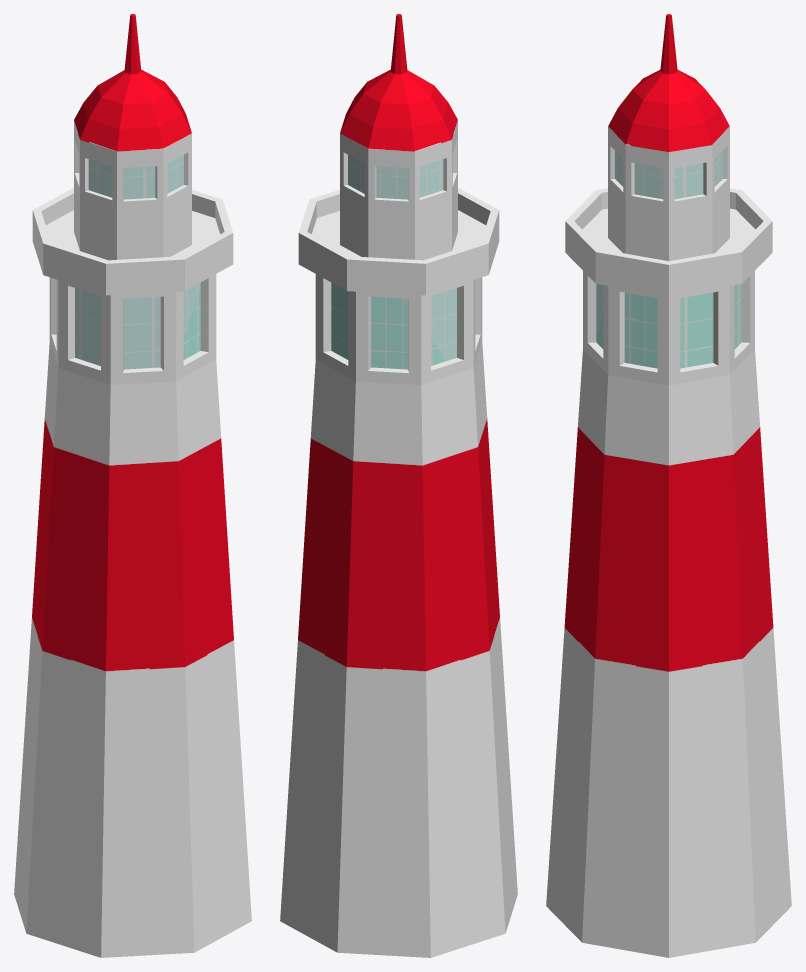
The model's file is Lighthouse_noGround.fbx.
3 views of the same model, side by side, from view 1: azimuth 30°, elevation 25°; view 2: azimuth 150°, elevation 25°; view 3: azimuth 270°, elevation 25° (orthographic).
Visible parts, largest first — view 1: Cylinder.006; view 2: Cylinder.006; view 3: Cylinder.006.
Boxes of the visible parts, left/top/right/bottom form: Cylinder.006: left=14, top=14, right=251, bottom=957; Cylinder.006: left=280, top=14, right=517, bottom=957; Cylinder.006: left=546, top=14, right=791, bottom=957.
Size of the model in its own units: 40 by 160 by 40.
